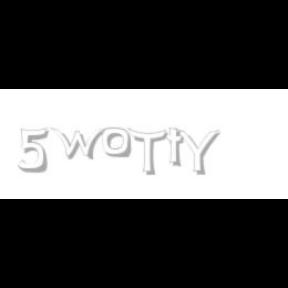5: (17, 128, 48, 174)
T: (127, 128, 167, 176)
Y: (174, 128, 220, 176)
o: (102, 128, 130, 158)
t: (166, 128, 188, 168)
w: (51, 128, 110, 160)
